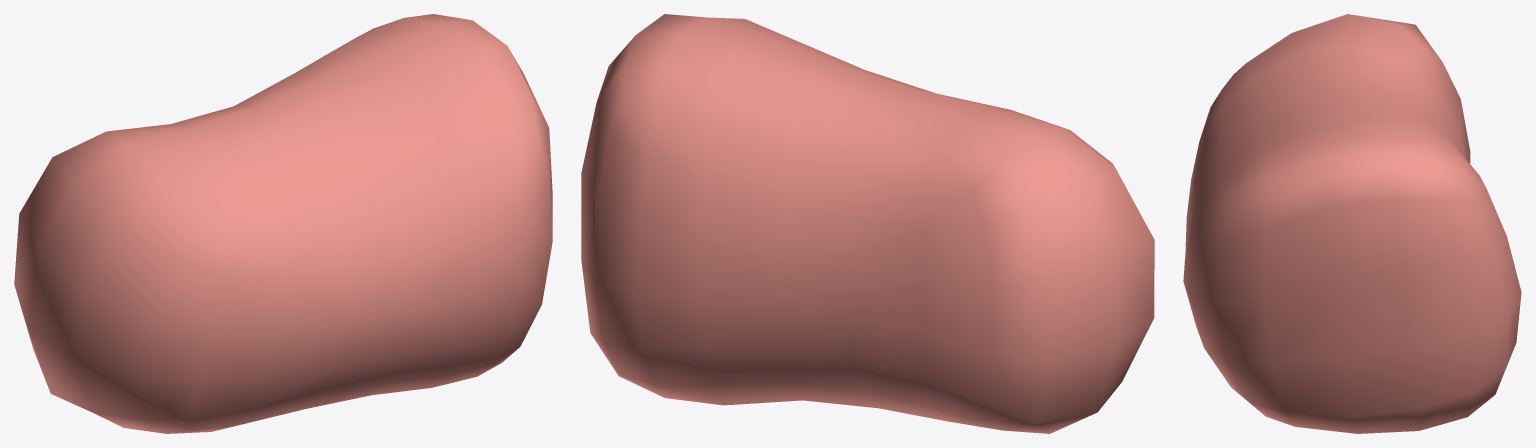
File: mixamo_humanoid_surface_rightHandIndex1.fbx
3 renders of one model, left to right at view 1: azimuth 30°, elevation 25°; view 2: azimuth 150°, elevation 25°; view 3: azimuth 270°, elevation 25°, orthographic. The views are drawn at different scales.
Visible parts, largest first — view 1: surface_RightHandIndex1; view 2: surface_RightHandIndex1; view 3: surface_RightHandIndex1.
Part boxes in pixels (x1=…): surface_RightHandIndex1: x1=14, y1=14, x2=552, y2=433; surface_RightHandIndex1: x1=581, y1=14, x2=1154, y2=433; surface_RightHandIndex1: x1=1183, y1=14, x2=1521, y2=433.
Size of the model in its own units: 3.57 by 2.27 by 2.33.
